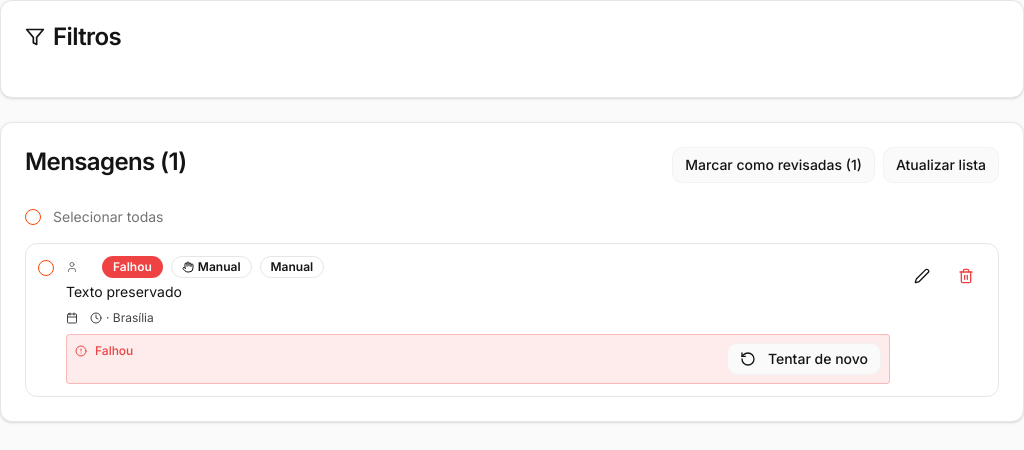
Test: refreshes the list on demand without changing or requeueing messages
Click the button "Atualizar lista". click: coordinates (941, 165)
box: [883,147,999,183]
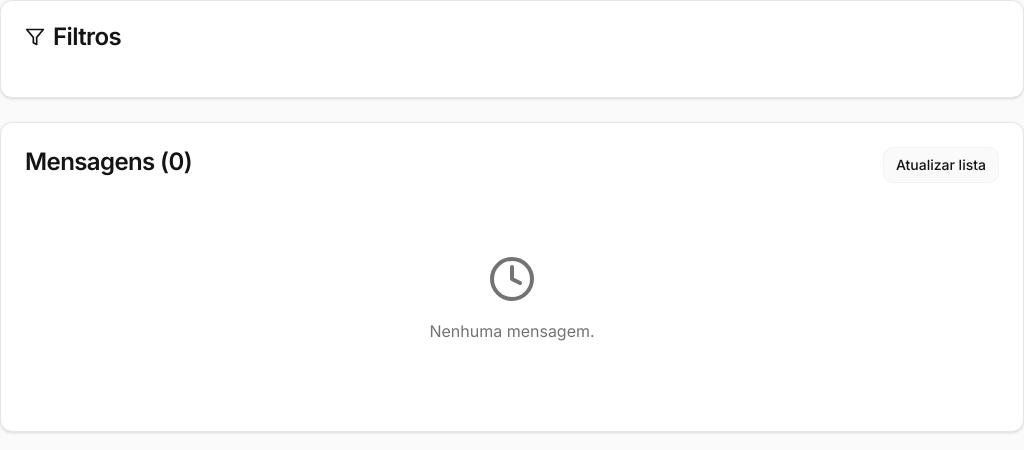
expect the text "Nenhuma mensagem." is shown: met, box [429,321,595,341]
